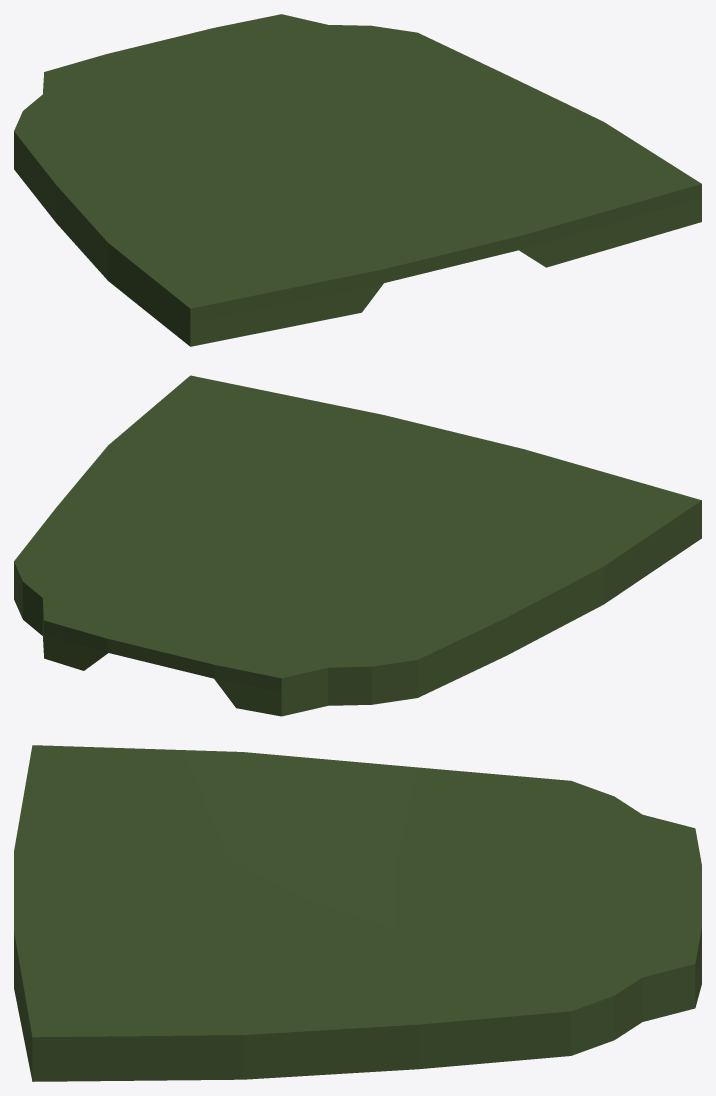
The model's file is ceil.obj.
3 renders of one model, top to bottom at view 1: azimuth 30°, elevation 25°; view 2: azimuth 150°, elevation 25°; view 3: azimuth 270°, elevation 25°, orthographic. The views are drawn at different scales.
Visible parts, largest first — view 1: ceil_export; view 2: ceil_export; view 3: ceil_export.
Boxes of the visible parts, <box> form: ceil_export: <box>14,14,701,346</box>; ceil_export: <box>14,375,701,716</box>; ceil_export: <box>14,745,701,1081</box>.
Size of the model in its own units: 6.18 by 0.488 by 6.15.
